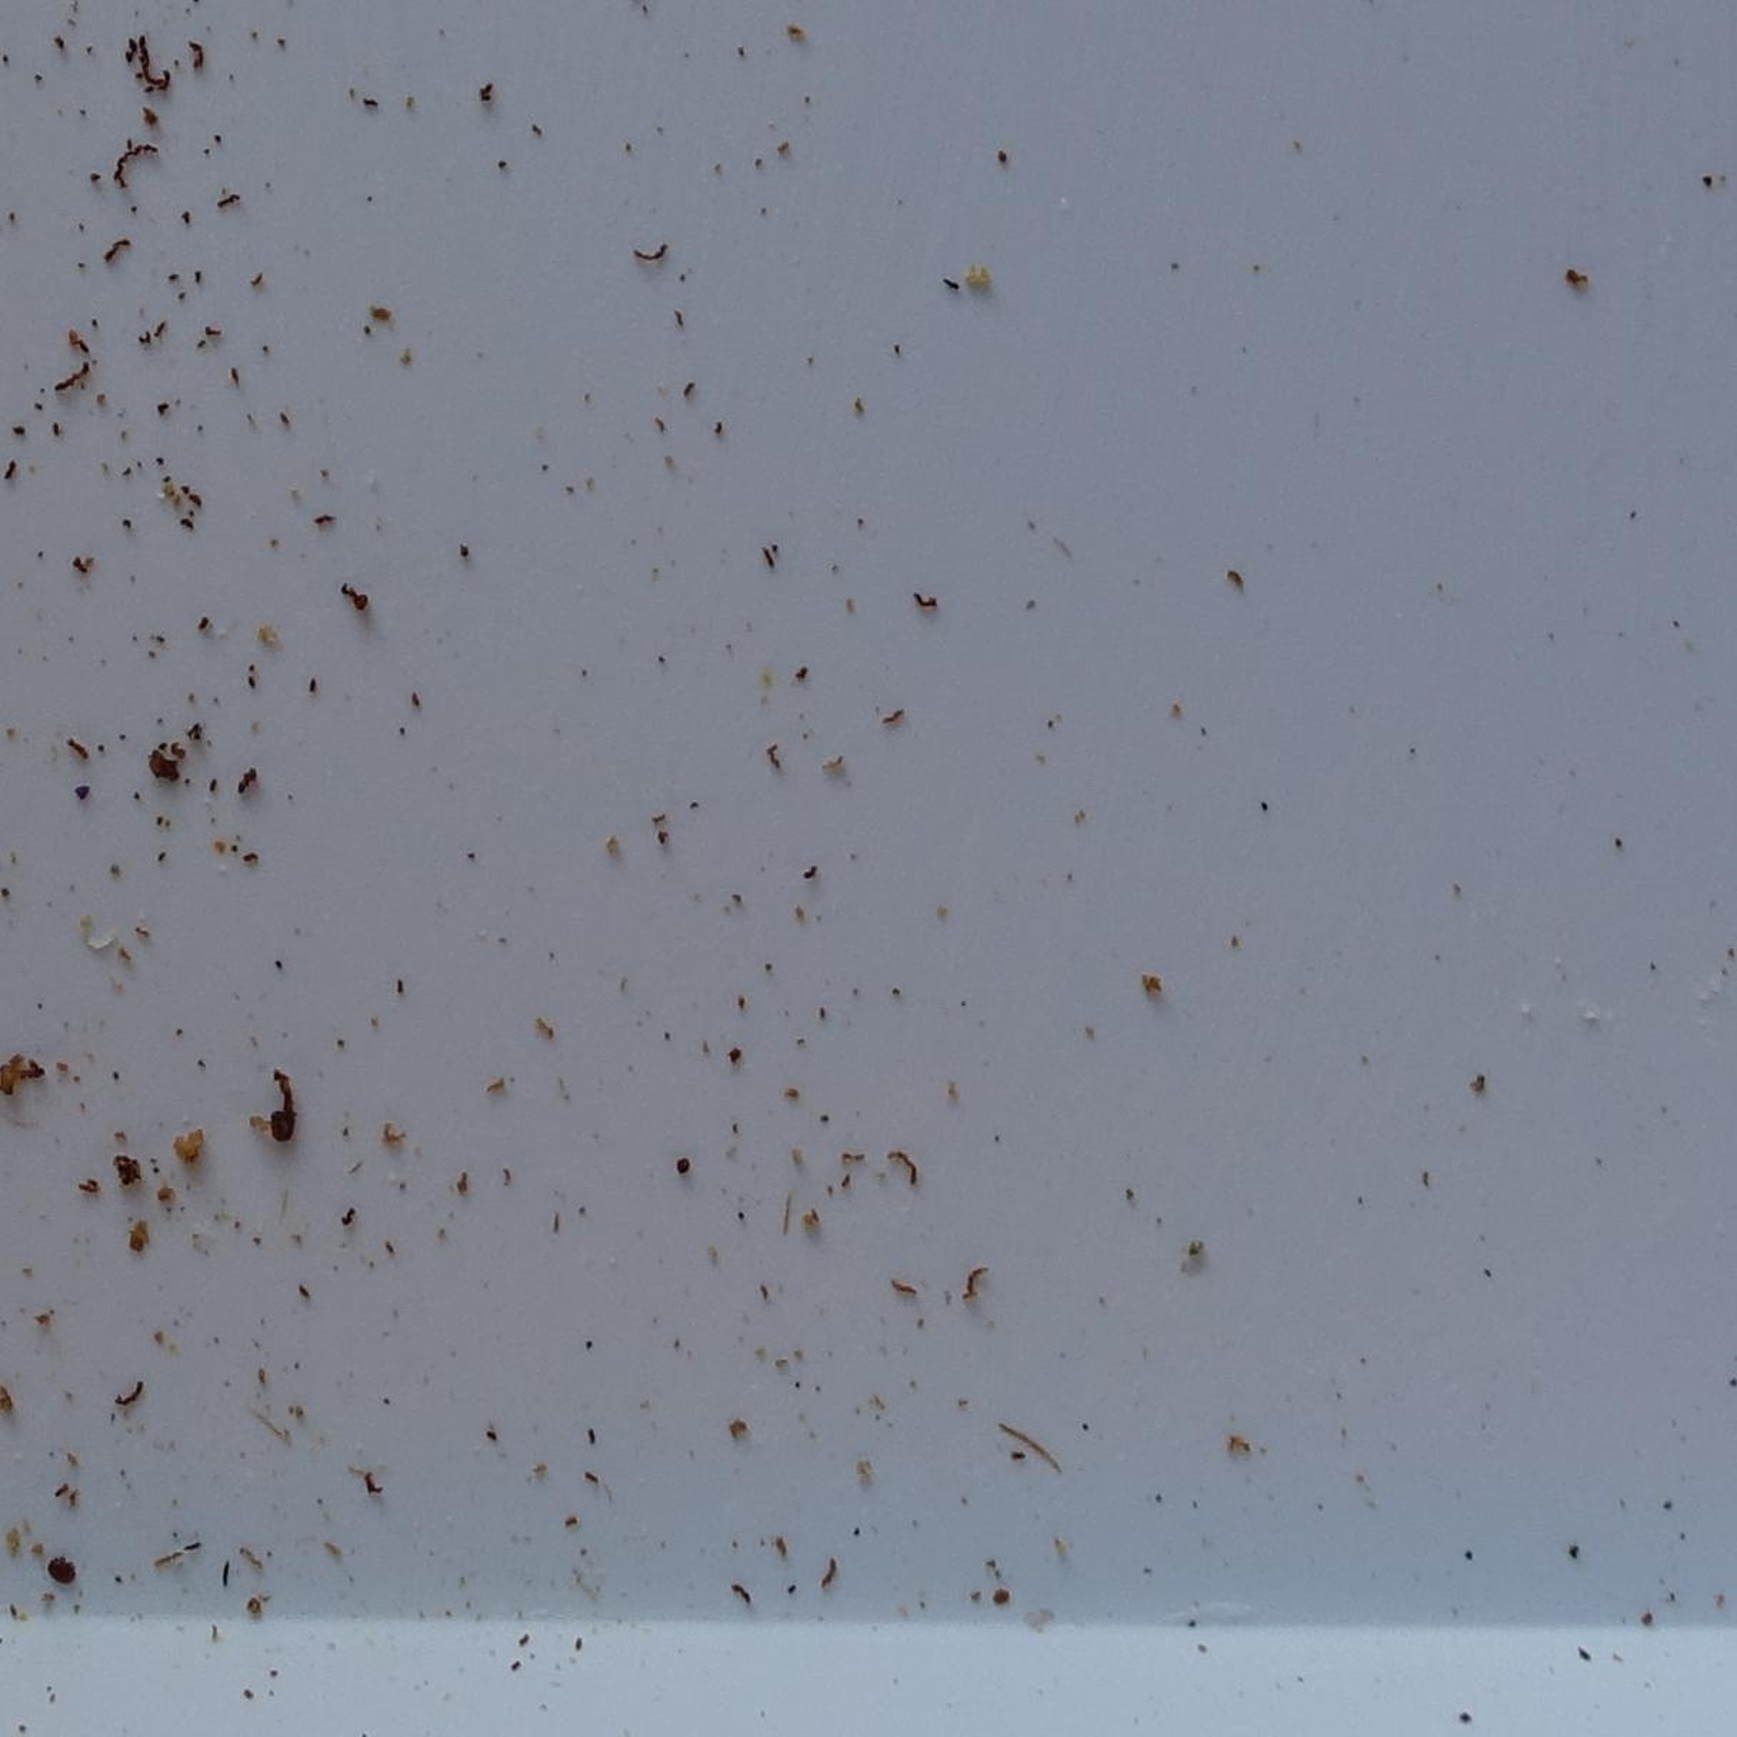Varroa: (261, 1110, 293, 1142), (48, 1556, 73, 1581)
